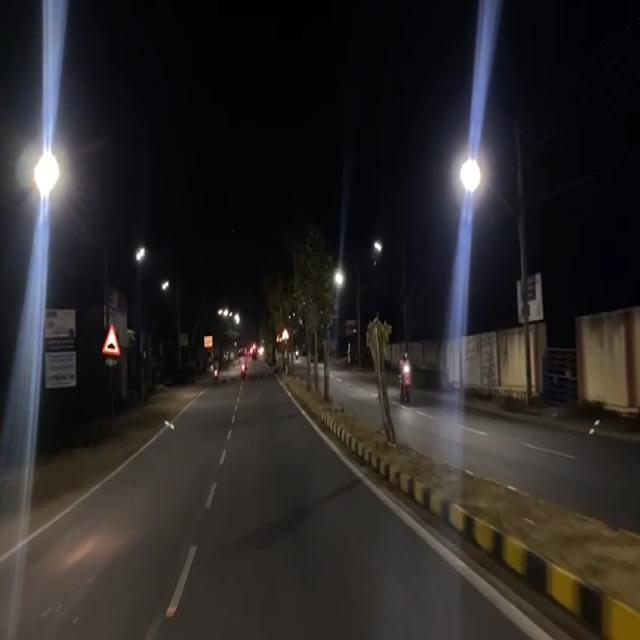bien_cam: (102, 321, 122, 360)
